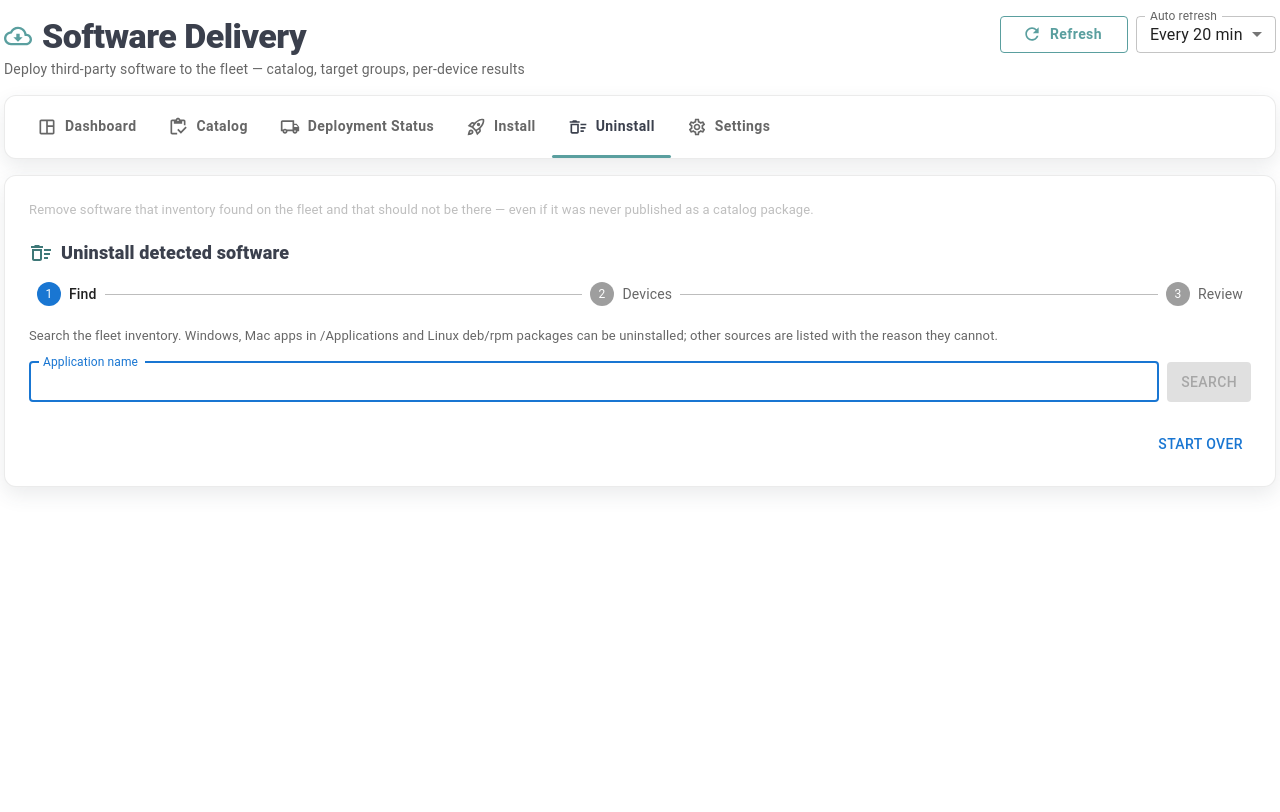
la desinstalación es ALCANZABLE, no sólo está montada › ⚠️ y el botón viejo YA NO está en «Deployments»
This screenshot has width=1280, height=812.
Click the tab "Deployment Status" at (357,127), box [264,96,450,158]
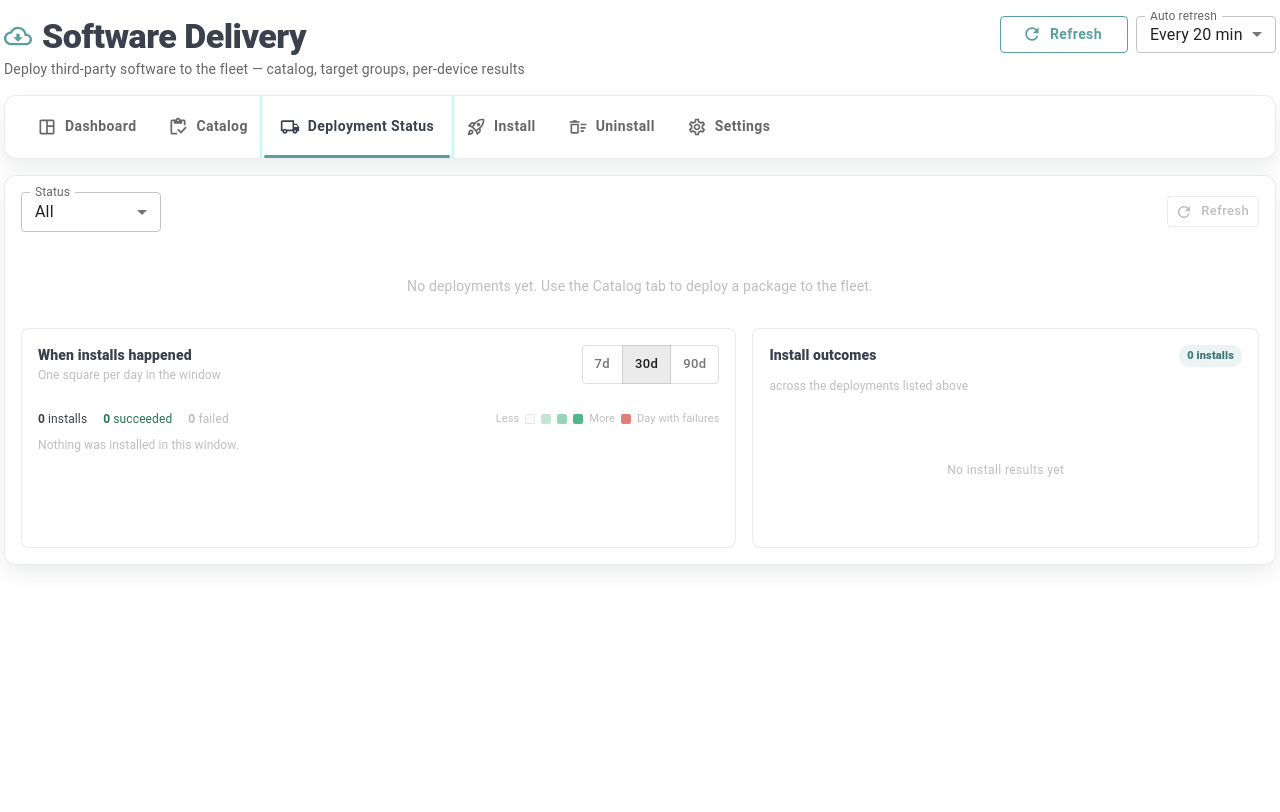
Check: the text "Uninstall detected software" is gone
